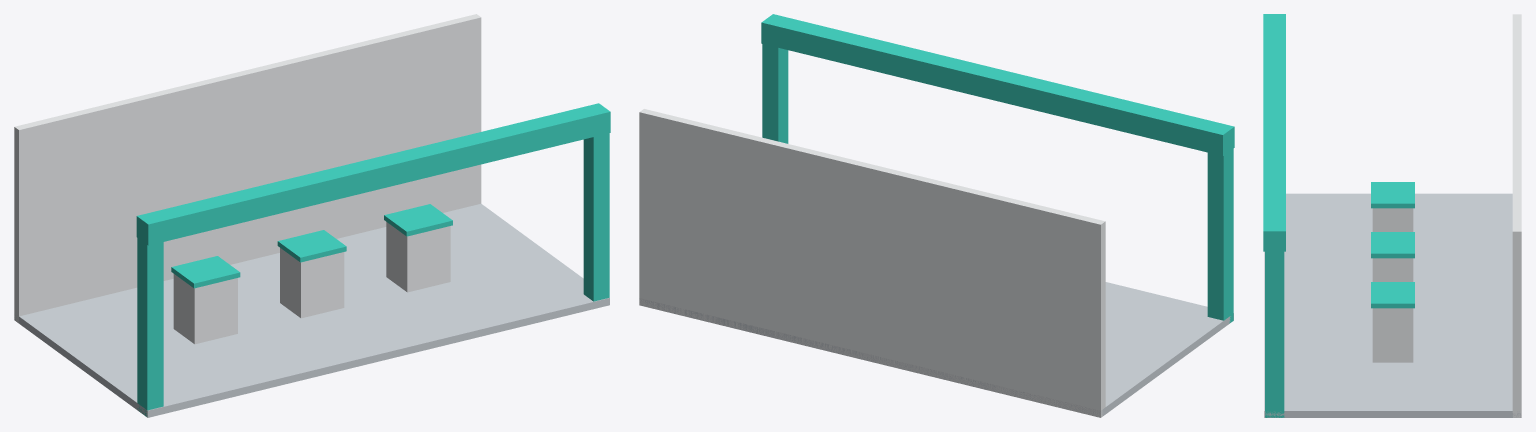
3 views of the same model, side by side, from view 1: azimuth 30°, elevation 25°; view 2: azimuth 150°, elevation 25°; view 3: azimuth 270°, elevation 25° (orthographic). The views are drawn at different scales.
Parts seen in each view (by area): view 1: Exhibition Booth Concept; view 2: Exhibition Booth Concept; view 3: Exhibition Booth Concept.
Boxes of the visible parts, x1,y1,x2,y2 form: Exhibition Booth Concept: (14, 14, 610, 417); Exhibition Booth Concept: (639, 14, 1234, 417); Exhibition Booth Concept: (1263, 14, 1521, 417).
Size of the model in its own units: 8 by 3.2 by 4.02.
